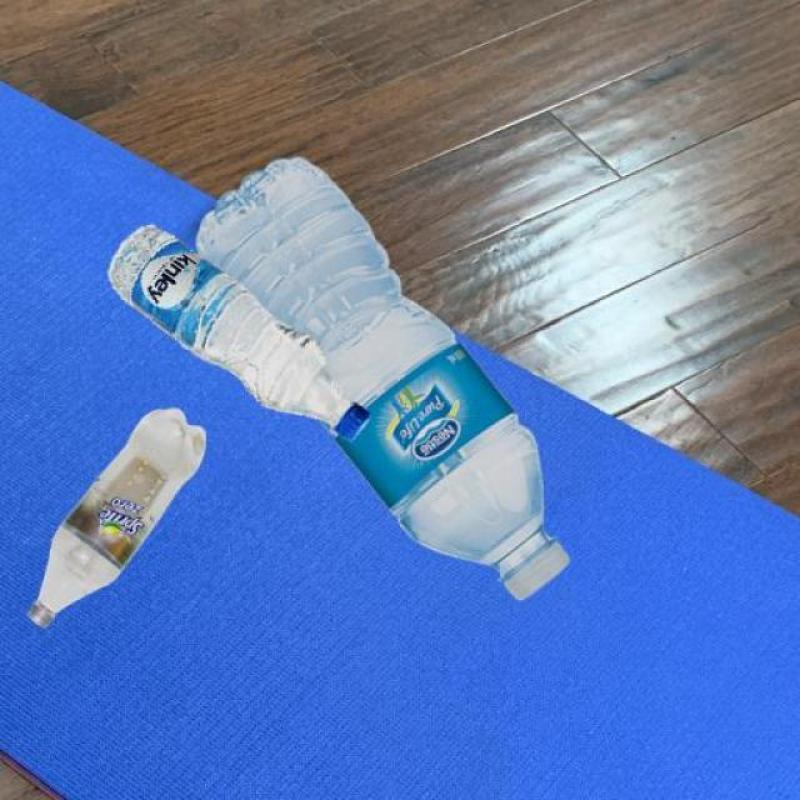botella: (191, 153, 571, 602), (108, 223, 368, 441), (26, 404, 209, 626)
